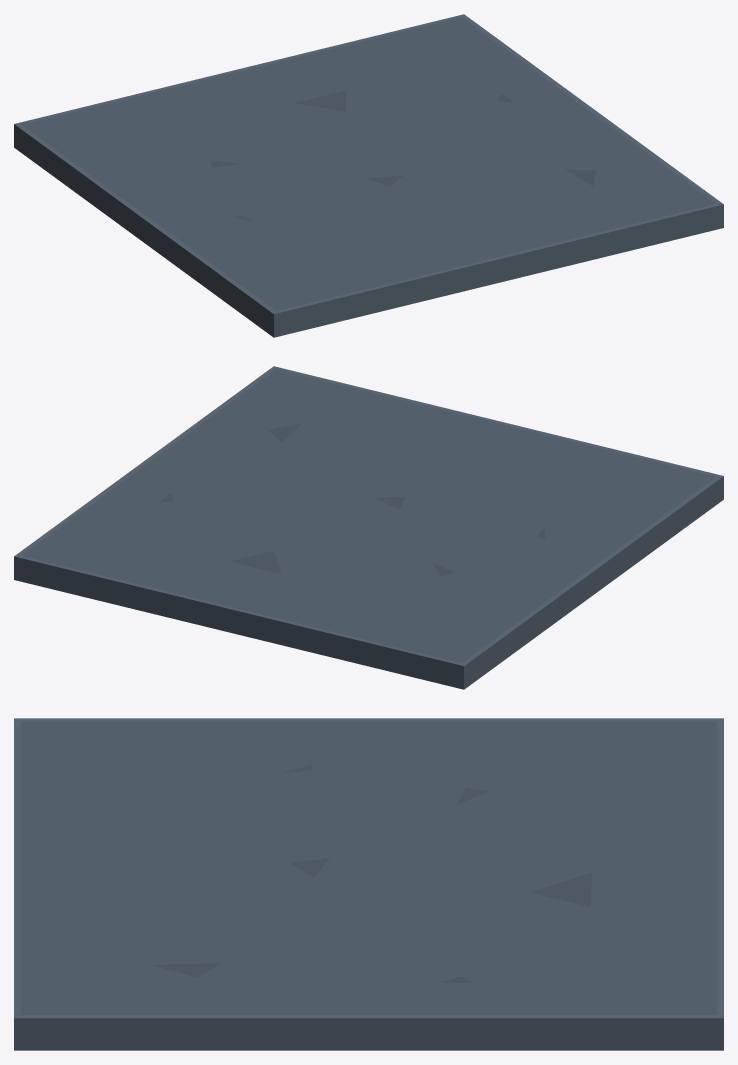
File: ConcrateSlabs_C_1_3.fbx
3 renders of one model, top to bottom at view 1: azimuth 30°, elevation 25°; view 2: azimuth 150°, elevation 25°; view 3: azimuth 270°, elevation 25°, orthographic. The views are drawn at different scales.
Parts seen in each view (by area): view 1: ConcrateSlabs_C_1_3; view 2: ConcrateSlabs_C_1_3; view 3: ConcrateSlabs_C_1_3.
Boxes of the visible parts, x1,y1,x2,y2 form: ConcrateSlabs_C_1_3: (14,14,723,337); ConcrateSlabs_C_1_3: (14,366,723,689); ConcrateSlabs_C_1_3: (14,718,723,1050).
Bounding box in the file's own units: 800 × 40 × 800.
